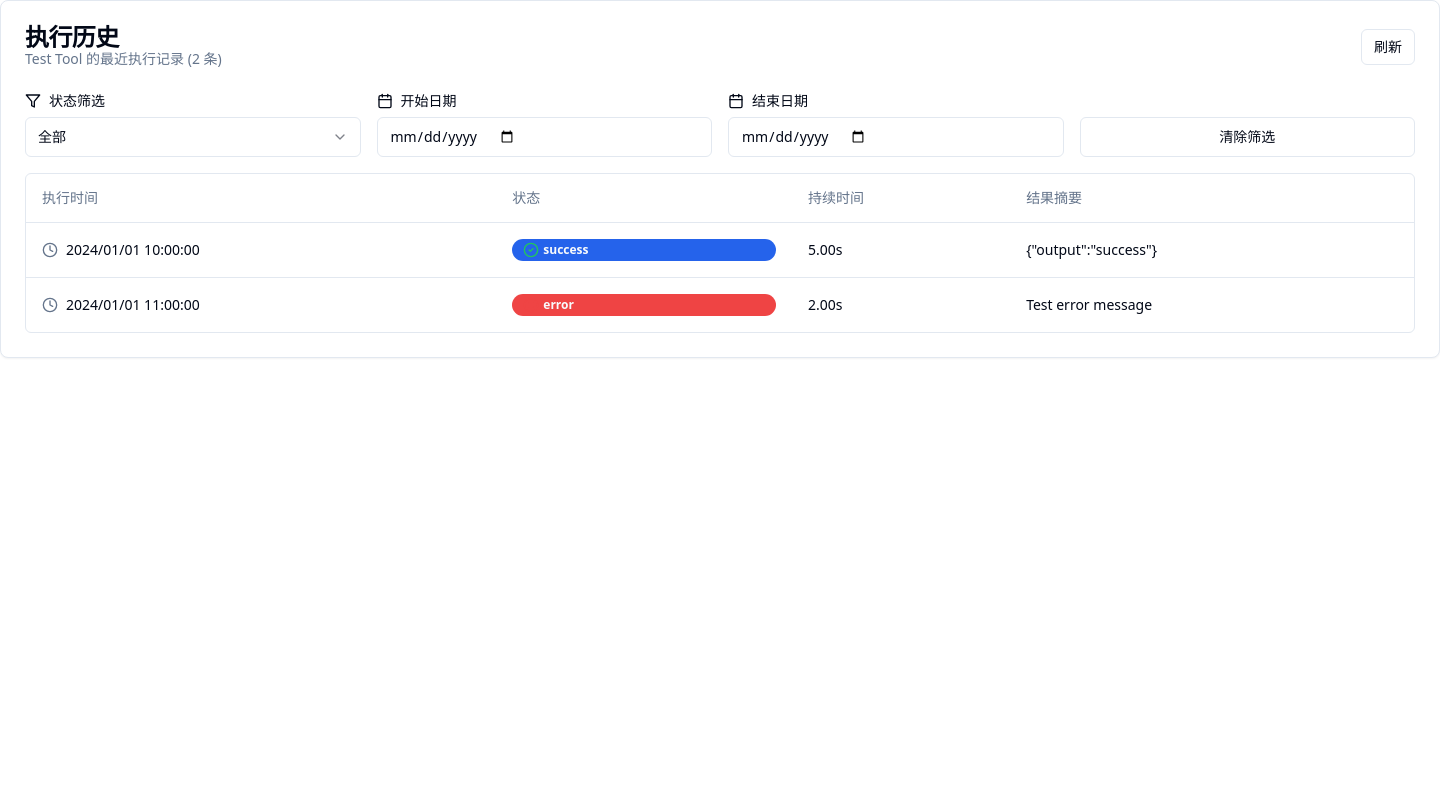
Scenario: ExecutionHistory › should open detail dialog when row is clicked
The image size is (1440, 810).
Expected: the text "success" is shown, [512,238,776,260]
Note: Click on the first row
Click the row "2024/01/01 10:00:00 success 5.00s {\"output\":\"success\"}". click: (720, 250)
box: [26,222,1414,277]
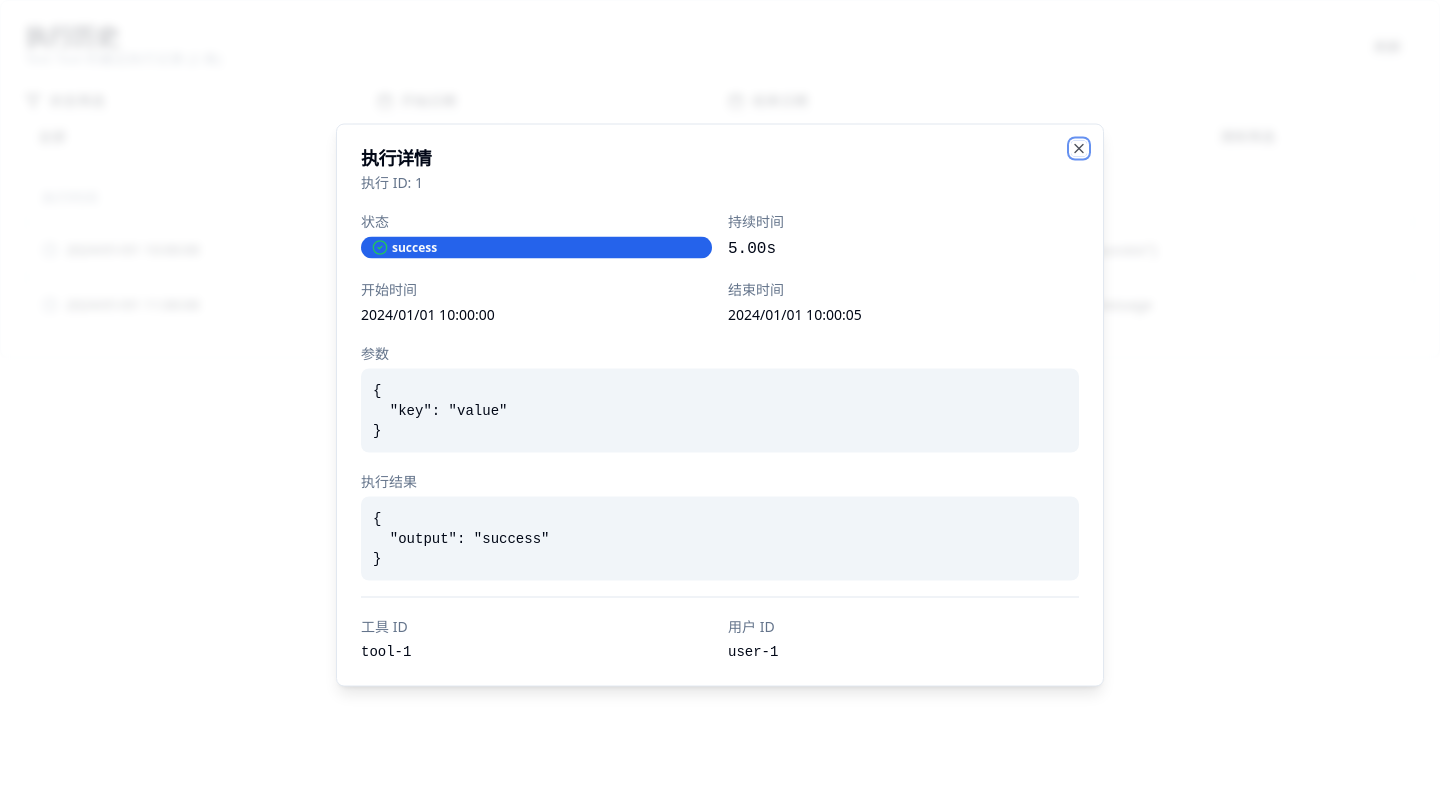
Expected: the heading "执行详情" is shown, [361,146,431,170]
Expected: the text "执行 ID: 1" is shown, [361,172,423,192]
